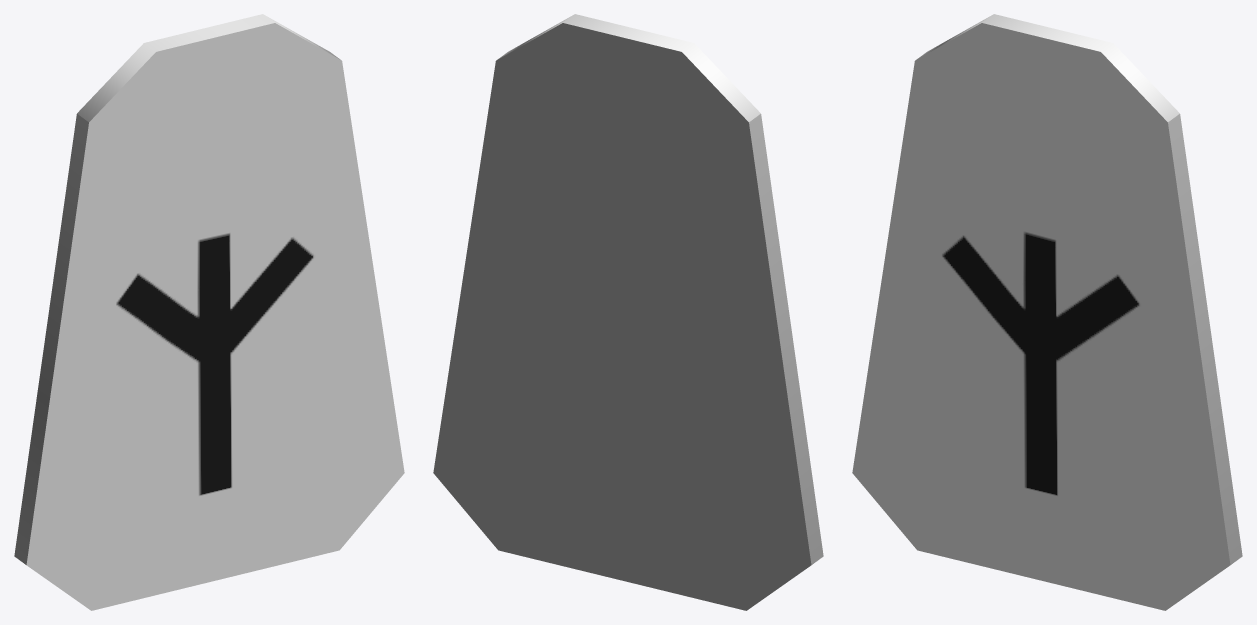
The model's file is Tag_F.fbx.
3 views of the same model, side by side, from view 1: azimuth 30°, elevation 25°; view 2: azimuth 150°, elevation 25°; view 3: azimuth 330°, elevation 25° (orthographic).
Visible parts, largest first — view 1: Tag_F; view 2: Tag_F; view 3: Tag_F.
Part boxes in pixels (<box>): Tag_F: <box>14,14,404,610</box>; Tag_F: <box>433,14,823,610</box>; Tag_F: <box>852,14,1242,610</box>.
Size of the model in its own units: 17.93 by 24.62 by 1.
Materials: 1 (1 with a texture image).
